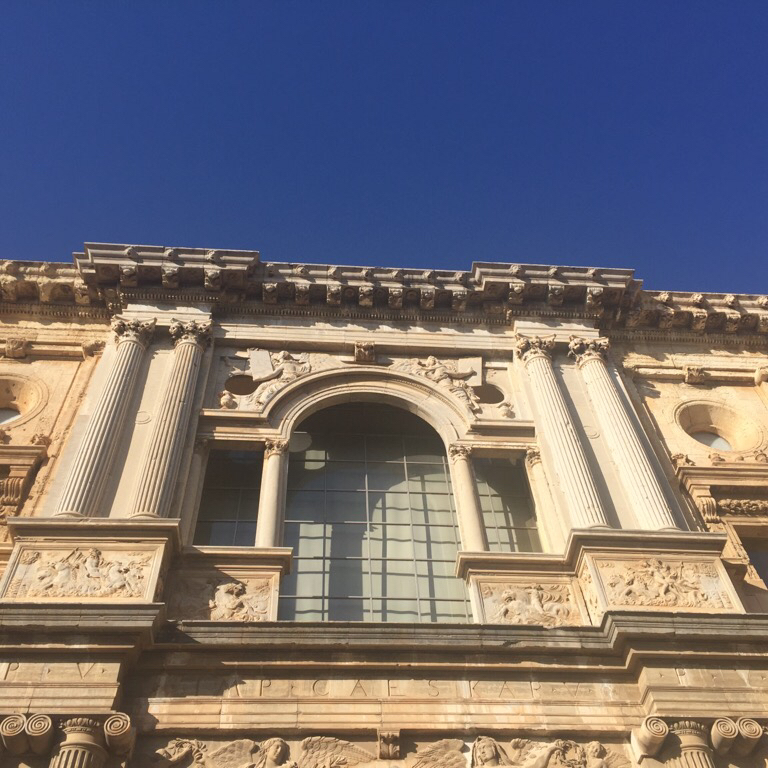arco-medio-punto: (271, 373, 468, 457)
ojo-de-buey: (670, 395, 766, 457)
serliana: (161, 355, 572, 617)
